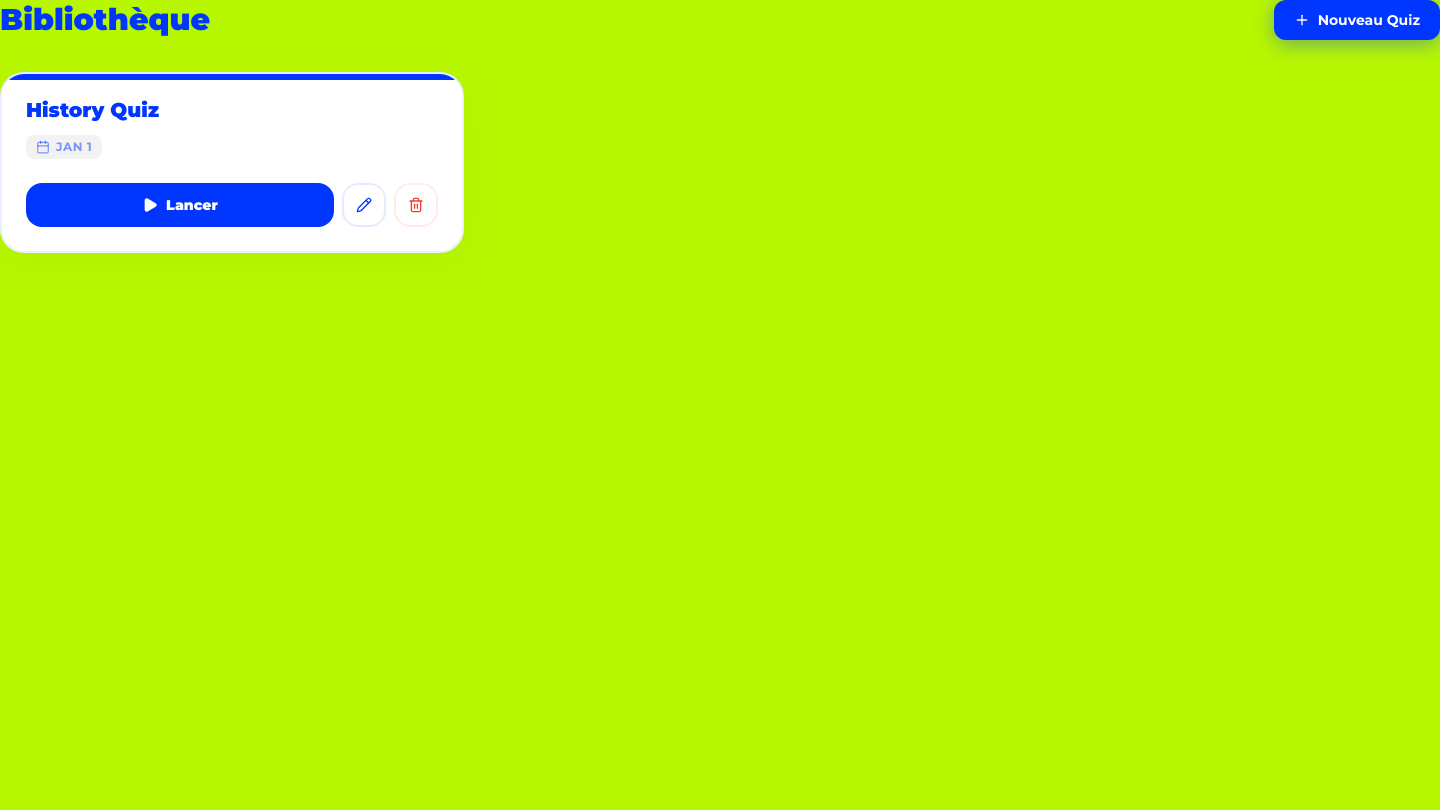
Test case: QuizListPage › opens confirm modal when Delete is clicked
Expected: the heading "History Quiz" is shown, 26,98 -> 159,122
Click the button named "supprimer". click: [416, 205]
box: 394,183 -> 438,227
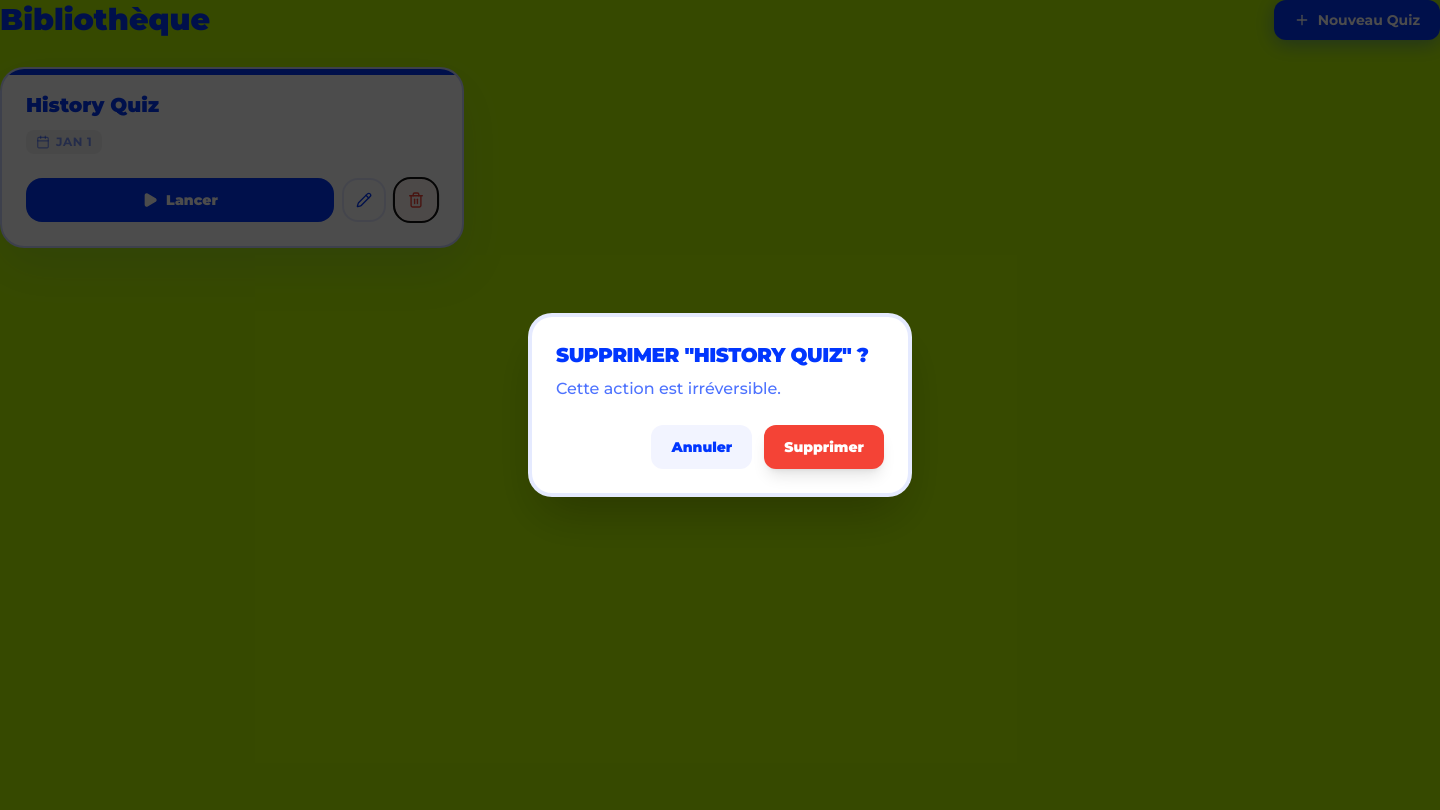
Now the dialog is shown
Now the heading "Supprimer \"History Quiz\" ?" is shown, box 556,341 -> 884,369
Now the text "Cette action est irréversible." is shown, box 556,379 -> 781,398
